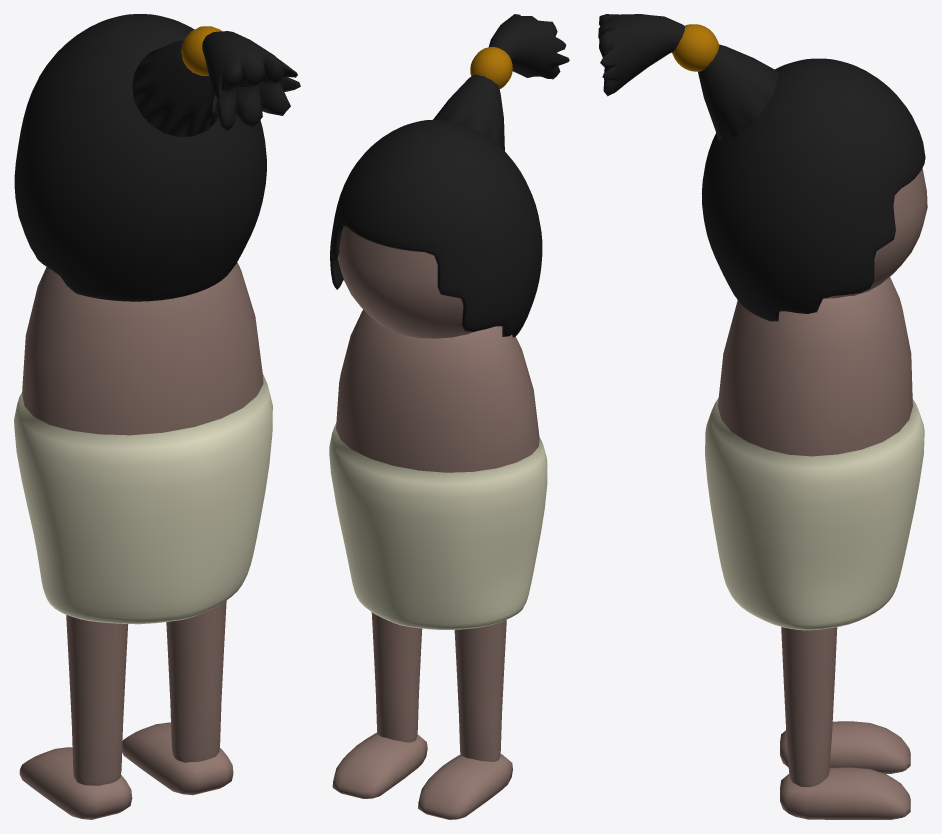
Rendered from Player.fbx.
The picture shows the model from 3 angles, left to right: view 1: azimuth 30°, elevation 25°; view 2: azimuth 150°, elevation 25°; view 3: azimuth 270°, elevation 25°; orthographic projection. The views are drawn at different scales.
Visible parts, largest first — view 1: pCylinder4, pSphere1, pCube1, pCylinder2; view 2: pCylinder4, pSphere1, pCube1, pCylinder2; view 3: pCylinder4, pSphere1, pCylinder2, pCube1.
Part boxes in pixels (x1=…): pCylinder4: x1=14, y1=262, x2=272, y2=624; pSphere1: x1=14, y1=14, x2=300, y2=301; pCube1: x1=19, y1=615, x2=132, y2=819; pCylinder2: x1=122, y1=600, x2=233, y2=795; pCylinder4: x1=329, y1=309, x2=547, y2=629; pSphere1: x1=330, y1=14, x2=569, y2=338; pCube1: x1=418, y1=620, x2=512, y2=819; pCylinder2: x1=332, y1=612, x2=427, y2=798; pCylinder4: x1=705, y1=277, x2=924, y2=630; pSphere1: x1=598, y1=14, x2=927, y2=321; pCylinder2: x1=780, y1=627, x2=910, y2=819; pCube1: x1=780, y1=721, x2=910, y2=773.
Bounding box in the file's own units: 1.37 × 4.62 × 1.79.
